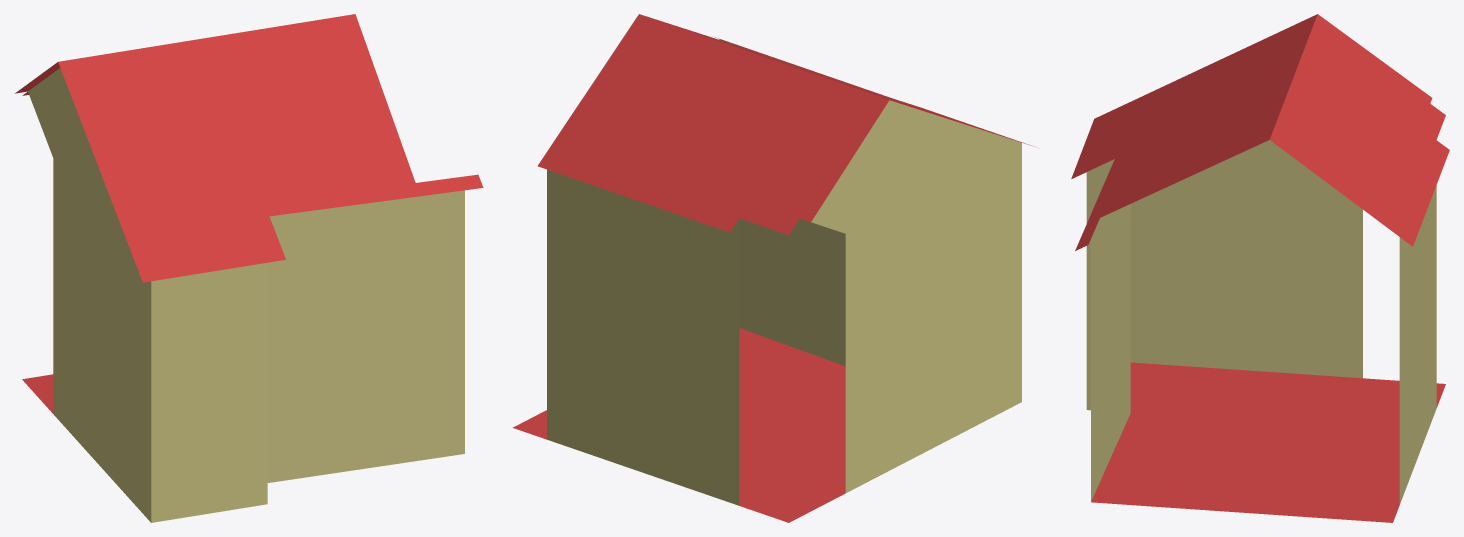
3 renders of one model, left to right at view 1: azimuth 30°, elevation 25°; view 2: azimuth 150°, elevation 25°; view 3: azimuth 270°, elevation 25°, orthographic. The views are drawn at different scales.
Bounding box in the file's own units: 14.67 × 13.92 × 14.4.
